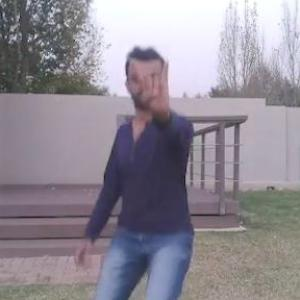takeoff-hand: (130, 53, 178, 112)
